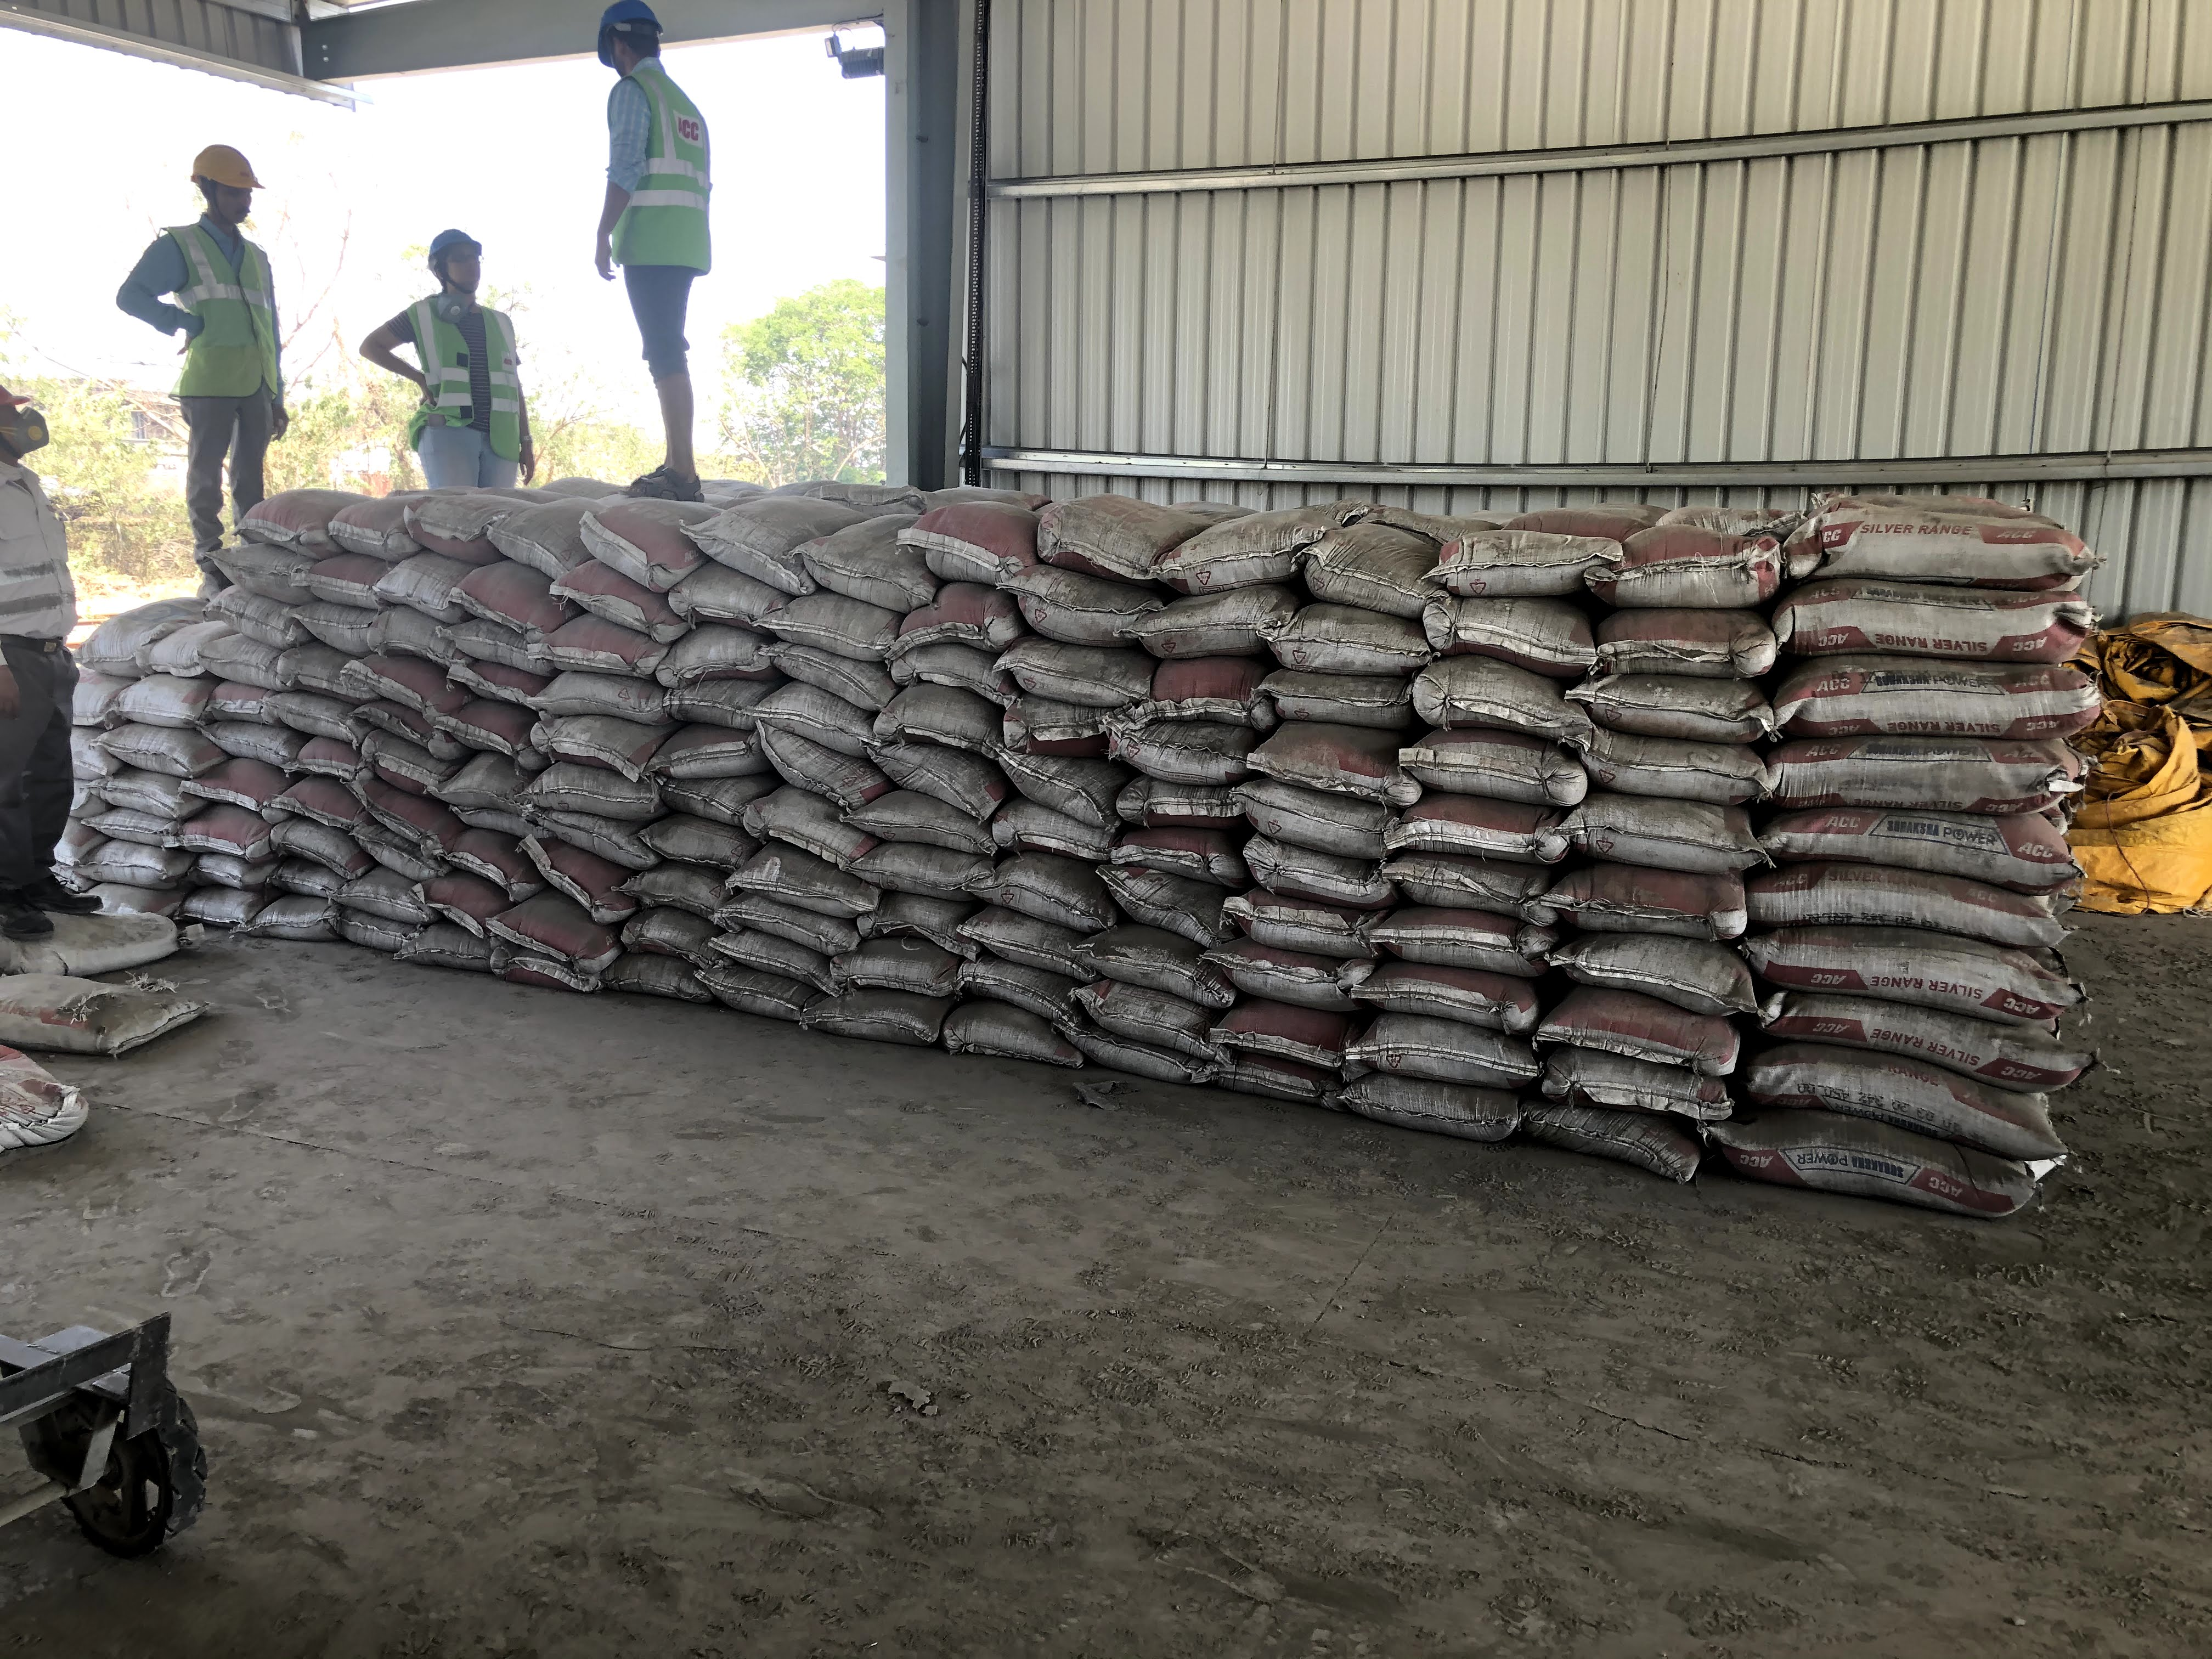cement bag: (1738, 922, 2083, 1033), (1717, 1114, 2040, 1223), (1757, 983, 2074, 1094), (1756, 1047, 2062, 1152), (1745, 868, 2067, 957), (1780, 664, 2104, 748), (1757, 739, 2094, 816), (1766, 805, 2085, 884), (1827, 512, 2085, 594), (1789, 610, 2083, 667), (1406, 727, 1588, 816), (1559, 863, 1745, 950), (1411, 652, 1594, 739), (1036, 488, 1183, 594), (1602, 533, 1794, 612), (1554, 983, 1733, 1066), (1348, 1065, 1527, 1143), (1531, 1091, 1702, 1173), (1543, 1042, 1717, 1121), (12, 972, 174, 1056), (1366, 1007, 1526, 1089), (1569, 931, 1743, 1006), (1374, 951, 1533, 1033), (1581, 789, 1747, 864), (709, 493, 833, 587), (1446, 596, 1604, 669), (1402, 791, 1547, 871), (1381, 887, 1524, 965), (1238, 775, 1386, 849), (1592, 741, 1759, 805), (1306, 526, 1439, 606), (1261, 718, 1399, 795), (873, 741, 1007, 819), (759, 721, 880, 807), (1609, 605, 1771, 667), (1249, 830, 1381, 906), (589, 497, 711, 577), (1231, 882, 1367, 953), (1087, 967, 1207, 1047), (1001, 753, 1127, 830), (780, 633, 902, 711), (1601, 681, 1761, 741), (1223, 990, 1336, 1073), (1385, 845, 1541, 904), (1109, 861, 1224, 941), (1291, 601, 1420, 673), (1066, 1023, 1200, 1089), (1089, 924, 1216, 993), (860, 784, 988, 854), (1278, 660, 1400, 732), (1109, 720, 1256, 779), (1116, 763, 1240, 833), (535, 704, 658, 774), (526, 836, 636, 915), (996, 854, 1108, 929), (897, 678, 1003, 756), (730, 889, 859, 953), (1179, 512, 1306, 577), (819, 528, 923, 606), (963, 901, 1089, 965), (916, 511, 1038, 577), (1223, 939, 1355, 1000), (1153, 598, 1282, 659), (554, 667, 676, 732), (244, 477, 340, 559), (1449, 540, 1583, 598), (826, 992, 948, 1054), (1029, 577, 1141, 645), (911, 586, 1026, 650), (1007, 688, 1111, 758), (714, 931, 833, 992), (958, 1007, 1073, 1070), (502, 488, 583, 575), (895, 645, 1012, 706), (745, 845, 862, 906), (1157, 653, 1266, 718), (533, 767, 651, 826), (1003, 803, 1115, 866), (766, 786, 864, 857), (1122, 824, 1237, 884), (970, 953, 1085, 1012), (559, 620, 665, 681), (343, 650, 442, 714), (1019, 641, 1132, 697), (338, 486, 420, 563), (770, 687, 866, 751), (678, 619, 766, 687), (845, 948, 960, 1000), (869, 840, 988, 890), (411, 490, 505, 552), (510, 894, 606, 955), (364, 781, 448, 850), (660, 725, 758, 784), (786, 591, 892, 645), (657, 810, 747, 873), (451, 746, 533, 814), (105, 779, 192, 838), (693, 572, 779, 631), (110, 741, 209, 791), (887, 894, 974, 950), (627, 908, 718, 960), (561, 575, 660, 622), (219, 552, 307, 605), (671, 772, 759, 823), (92, 840, 183, 889), (472, 577, 559, 626), (312, 559, 395, 610), (451, 821, 524, 878), (617, 953, 704, 1000), (463, 620, 552, 666), (211, 592, 284, 647), (395, 558, 465, 610), (683, 676, 768, 718), (369, 730, 432, 784), (439, 871, 493, 932), (125, 685, 206, 725), (277, 688, 354, 730), (221, 760, 287, 807), (381, 610, 446, 657), (298, 608, 387, 641), (99, 612, 157, 660), (293, 775, 352, 821), (643, 870, 714, 903), (279, 828, 338, 856)
